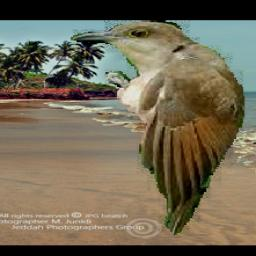Cuckoo: (72, 20, 247, 238)
